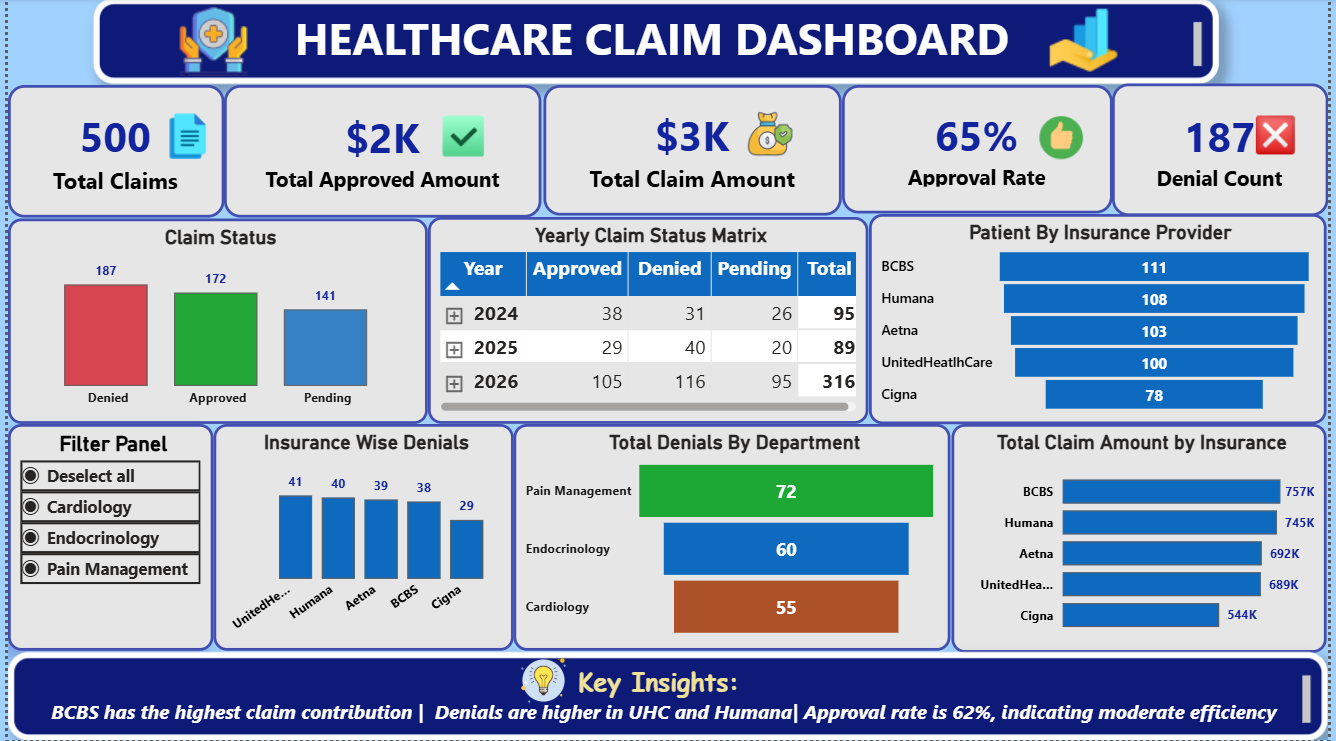

This screenshot's page, from the dashboard's own definition file:
{"tool":"powerbi","page":{"name":"Page 1","canvas":[1280,720],"ordinal":0},"visuals":[{"type":"textbox","box":[83.2,0,1092.3,83.2],"z":0},{"type":"cardVisual","fields":{"Data":["data.Total Claims"]},"box":[0,85,209.8,128.5],"z":1000},{"type":"cardVisual","fields":{"Data":["data.Total Approved Amount (K)"]},"box":[209.8,85,308,128.5],"z":2000},{"type":"cardVisual","fields":{"Data":["data.Total claim amount (K)"]},"box":[519.7,85,289.1,126.6],"z":3000},{"type":"cardVisual","fields":{"Data":["data.Approval Rate"]},"box":[808.8,85,262.7,124.7],"z":4000},{"type":"columnChart","title":"Claim Status","fields":{"Category":["data.Claim_Status"],"Y":["CountNonNull(data.Claim_ID)"]},"box":[0,214,407.6,199.4],"z":5000},{"type":"pivotTable","title":"Yearly Claim Status Matrix","fields":{"Rows":["data.Claim_date.Variation.Date Hierarchy.Year","data.Claim_date.Variation.Date Hierarchy.Quarter","data.Claim_date.Variation.Date Hierarchy.Month","data.Claim_date.Variation.Date Hierarchy.Day"],"Values":["data.Total Claims"],"Columns":["data.Claim_Status"]},"box":[408,212.1,427.5,200.8],"z":6000},{"type":"barChart","title":"Total Claim Amount by Insurance","fields":{"Category":["data.Insurance_Provider"],"Y":["Sum(data.Claim_Amount)"]},"box":[914.9,412.9,364.3,221.8],"z":7000},{"type":"columnChart","title":"Insurance Wise Denials","fields":{"Category":["data.Insurance_Provider"],"Y":["data.Denial count"]},"box":[199.2,412.9,291.5,220.2],"z":8000},{"type":"funnel","title":"Total Denials By Department","fields":{"Category":["data.Department"],"Y":["data.Denial count"]},"box":[490.6,412.9,424.2,220.2],"z":9000},{"type":"funnel","title":"Patient By Insurance Provider","fields":{"Category":["data.Insurance_Provider"],"Y":["CountNonNull(data.Patient_ID)"]},"box":[835.5,208.9,443.7,204],"z":10000},{"type":"listSlicer","title":"Filter Panel","fields":{"Values":["data.Department"]},"box":[0,413.4,199.4,219.8],"z":11000},{"type":"cardVisual","fields":{"Data":["data.Denial count"]},"box":[1071.5,83.2,209.8,128.5],"z":12000},{"type":"textbox","box":[0,634.7,1280.8,85.8],"z":13000},{"type":"image","box":[111.5,107.7,124.7,52.9],"z":14000},{"type":"image","box":[378,107.7,126.6,52.9],"z":15000},{"type":"image","box":[676.5,109.6,124.7,45.4],"z":16000},{"type":"image","box":[1180.4,106.9,98.8,53.4],"z":17000},{"type":"image","box":[960,109.6,122.8,52.9],"z":18000},{"type":"image","box":[893.8,4.9,299.6,74.5],"z":19000},{"type":"image","box":[84.2,8.1,229.9,66.4],"z":20000},{"type":"image","box":[476.1,634.7,87.4,55.1],"z":21000}]}

Visuals, with their boxes in screenshot pixels (x1, y1, x2, y2), scaled from the page's 1280x720 canvas onto the 1336x741 screenshot:
textbox: select_region(87, 0, 1227, 86)
cardVisual - data.Total Claims: select_region(0, 87, 219, 220)
cardVisual - data.Total Approved Amount (K): select_region(219, 87, 540, 220)
cardVisual - data.Total claim amount (K): select_region(542, 87, 844, 218)
cardVisual - data.Approval Rate: select_region(844, 87, 1118, 216)
"Claim Status" columnChart: select_region(0, 220, 425, 425)
"Yearly Claim Status Matrix" pivotTable: select_region(426, 218, 872, 425)
"Total Claim Amount by Insurance" barChart: select_region(955, 425, 1335, 653)
"Insurance Wise Denials" columnChart: select_region(208, 425, 512, 652)
"Total Denials By Department" funnel: select_region(512, 425, 955, 652)
"Patient By Insurance Provider" funnel: select_region(872, 215, 1335, 425)
"Filter Panel" listSlicer: select_region(0, 425, 208, 652)
cardVisual - data.Denial count: select_region(1118, 86, 1335, 218)
textbox: select_region(0, 653, 1335, 740)
image: select_region(116, 111, 247, 165)
image: select_region(395, 111, 527, 165)
image: select_region(706, 113, 836, 160)
image: select_region(1232, 110, 1335, 165)
image: select_region(1002, 113, 1130, 167)
image: select_region(933, 5, 1246, 82)
image: select_region(88, 8, 328, 77)
image: select_region(497, 653, 588, 710)
